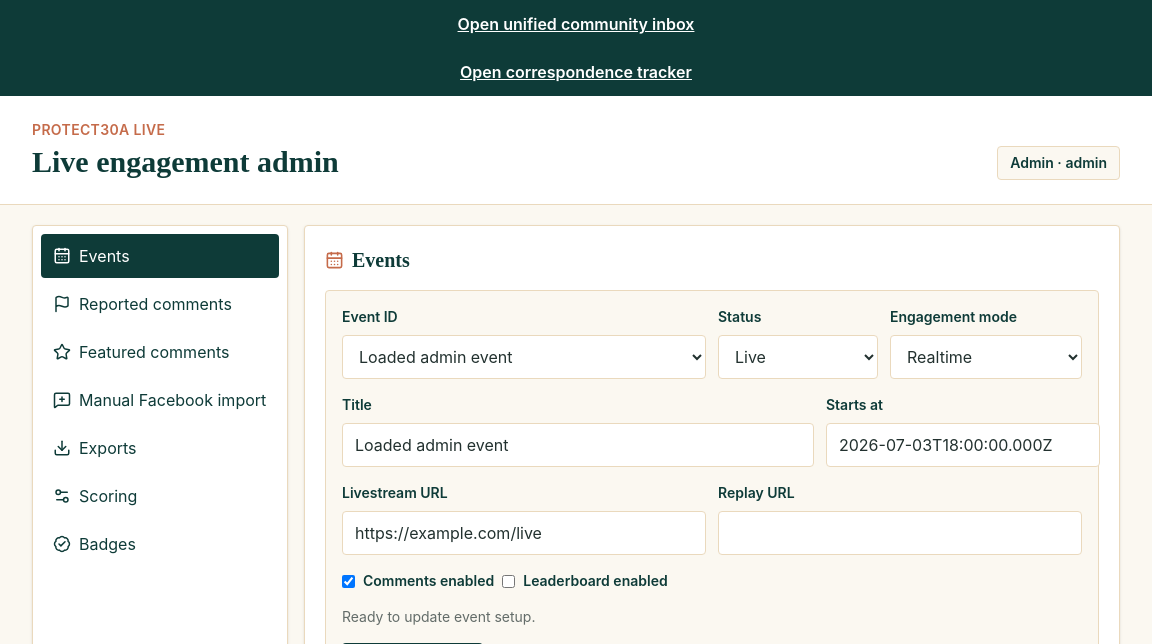
Test: admin dashboard route guard › hydrates admin forms from loaded server data instead of fixture ids
Check: the dropdown labelled "Event ID" shows "Loaded admin event", box [342, 335, 706, 379]
Check: the field labelled "Title" holds "Loaded admin event", box [342, 423, 814, 467]
What coordinates should you click on to do the following:
click the tab "Manual Facebook import"
I would click on:
 (160, 400)
Its box is [41, 378, 279, 422].
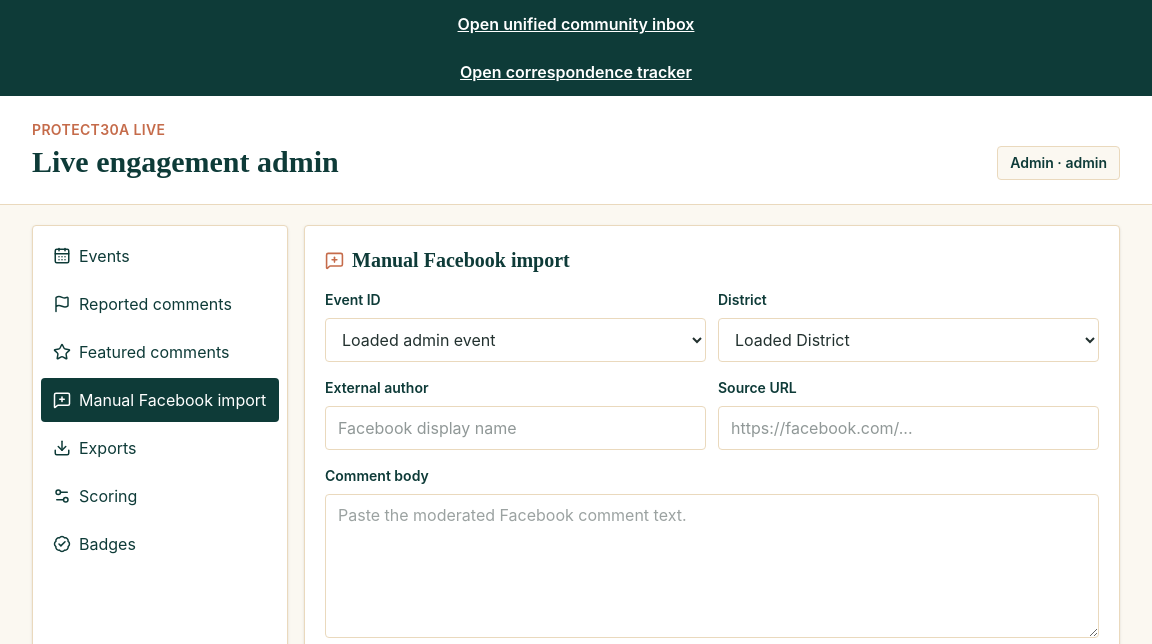
Check: the dropdown labelled "Event ID" shows "Loaded admin event", box [325, 318, 706, 362]
What coordinates should you click on to do the following:
click the tab "Exports"
I would click on:
 (160, 448)
Its box is [41, 426, 279, 470].
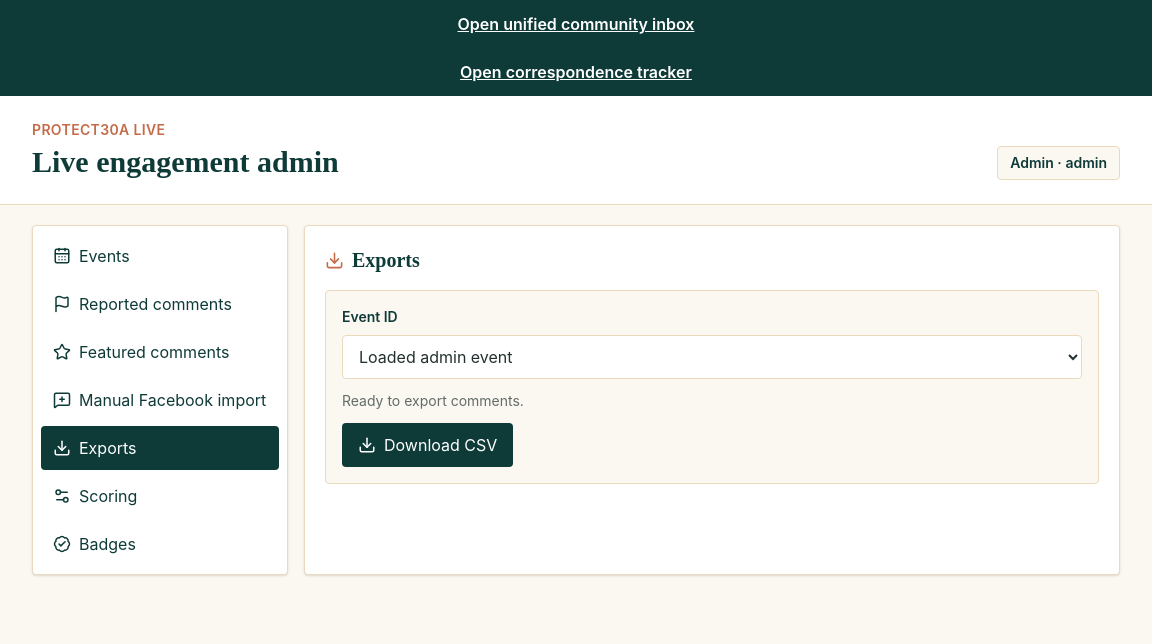
Check: the dropdown labelled "Event ID" shows "Loaded admin event", box [342, 335, 1082, 379]
What coordinates should you click on to do the following:
click the tab "Scoring"
I would click on:
 (160, 496)
Its box is [41, 474, 279, 518].
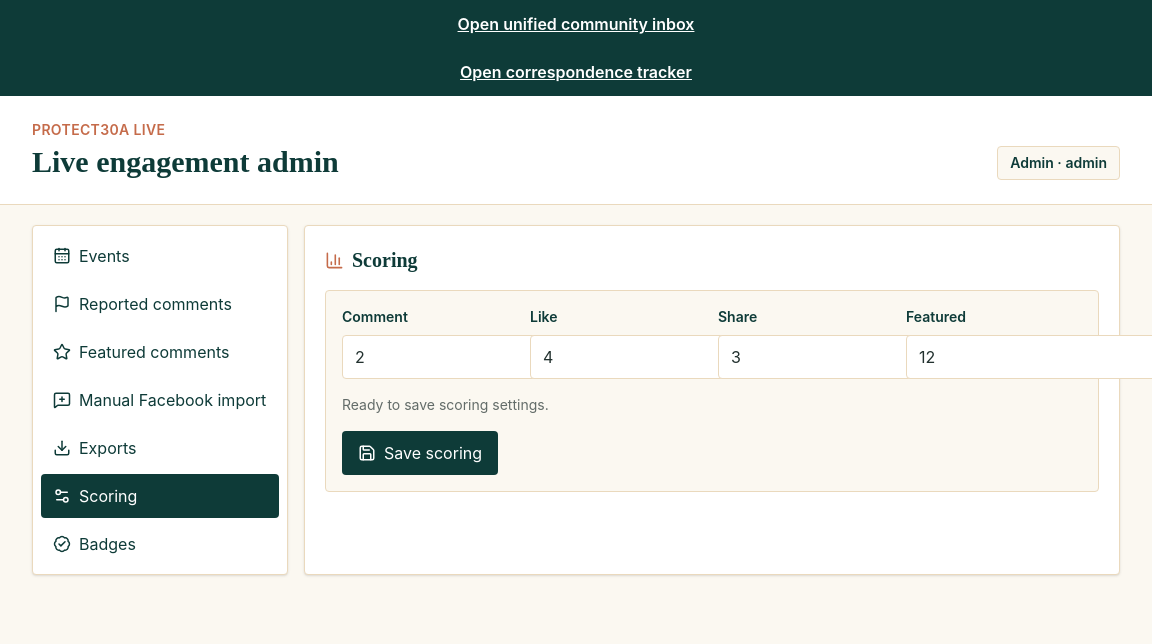
Check: the number field labelled "Like" holds "4", box [530, 335, 804, 379]
What coordinates should you click on to do the following:
click the tab "Badges"
I would click on:
 (160, 544)
Its box is [41, 522, 279, 566].
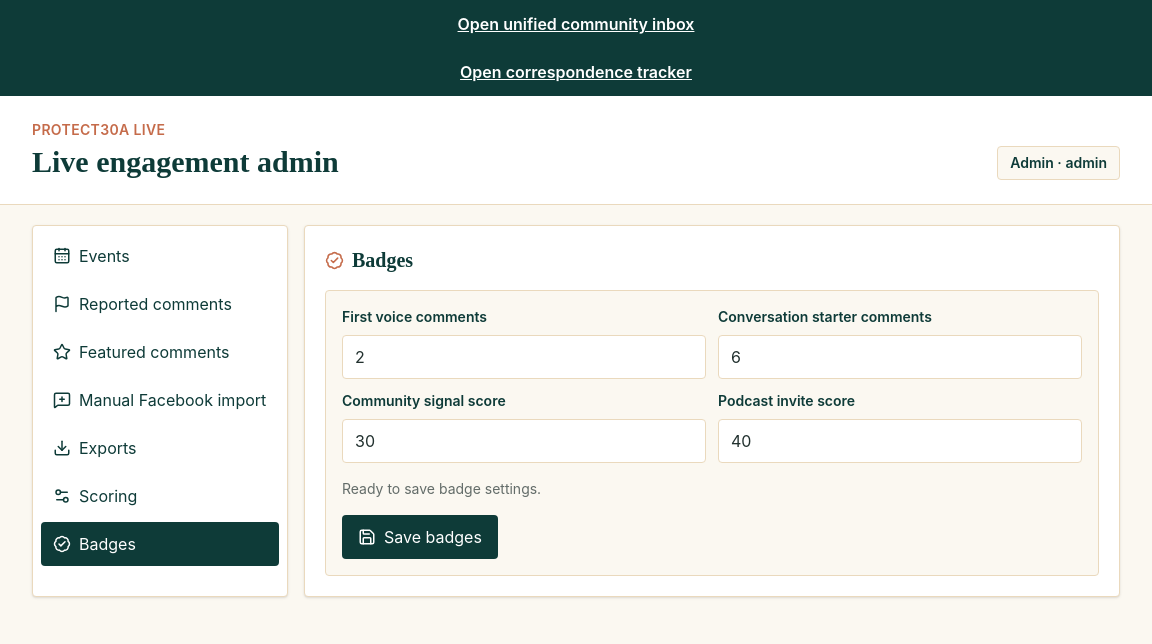
Check: the number field labelled "Podcast invite score" holds "40", box [718, 419, 1082, 463]
